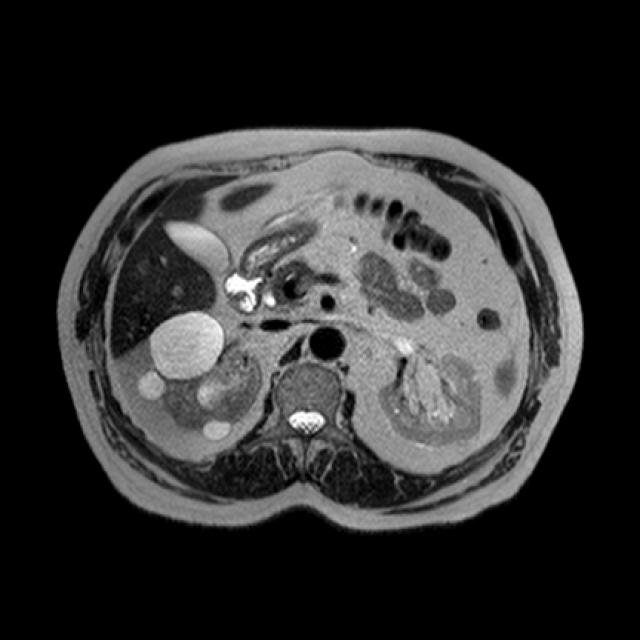sag: (139, 309, 262, 443)
sol: (381, 354, 486, 448)
